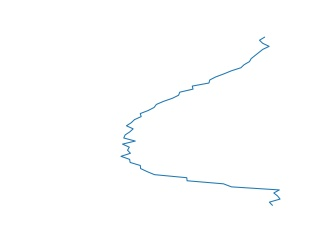underwaterDistributaryChannel: (117, 35, 286, 207)
